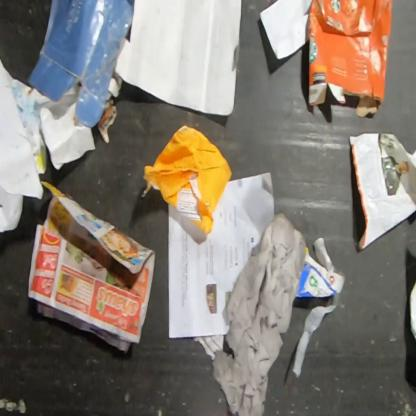cardboard: (113, 0, 242, 116), (23, 0, 134, 129), (307, 0, 393, 118), (259, 0, 313, 60)
soft_plastic: (293, 294, 339, 378), (312, 237, 335, 274)
